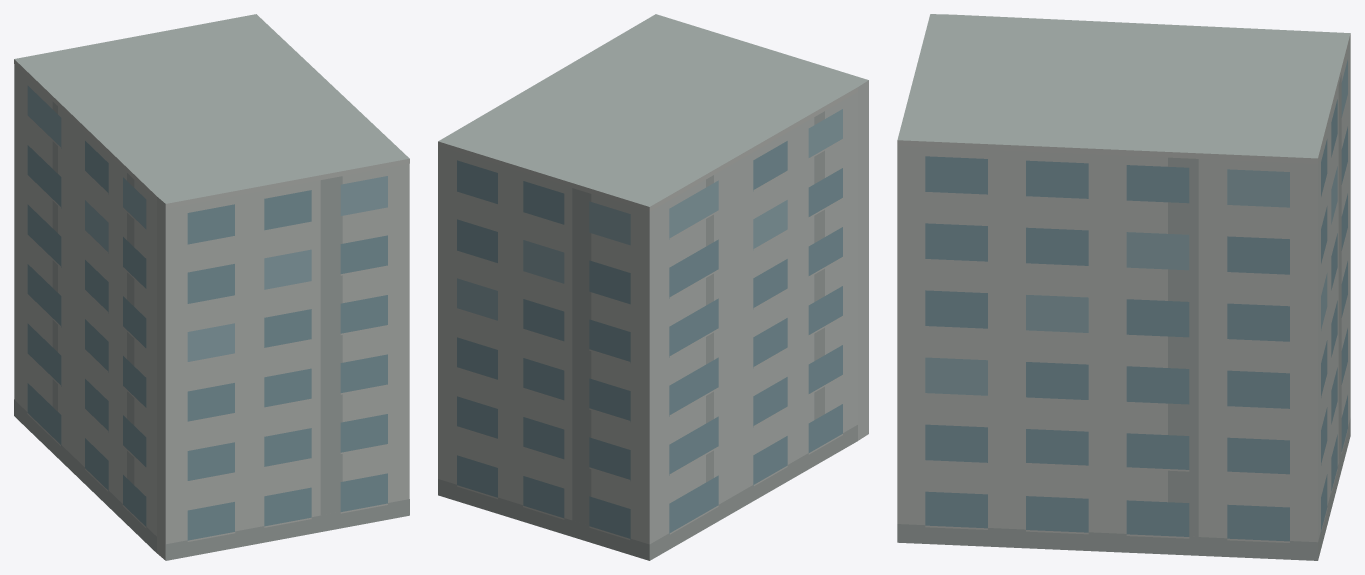
The model's file is survey-upis-32924562.glb.
The picture shows the model from 3 angles, left to right: view 1: azimuth 30°, elevation 25°; view 2: azimuth 150°, elevation 25°; view 3: azimuth 270°, elevation 25°; orthographic projection. The views are drawn at different scales.
Visible parts, largest first — view 1: survey-upis-32924562.tmp; view 2: survey-upis-32924562.tmp; view 3: survey-upis-32924562.tmp.
Boxes of the visible parts, x1,y1,x2,y2 form: survey-upis-32924562.tmp: (14,14,409,560); survey-upis-32924562.tmp: (438,14,868,560); survey-upis-32924562.tmp: (897,14,1350,560).
Size of the model in its own units: 13.32 by 17.3 by 17.67.
